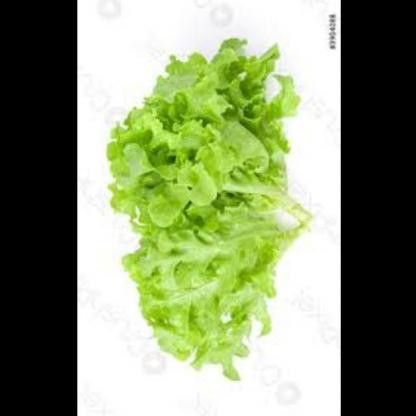salad: (98, 32, 313, 385)
